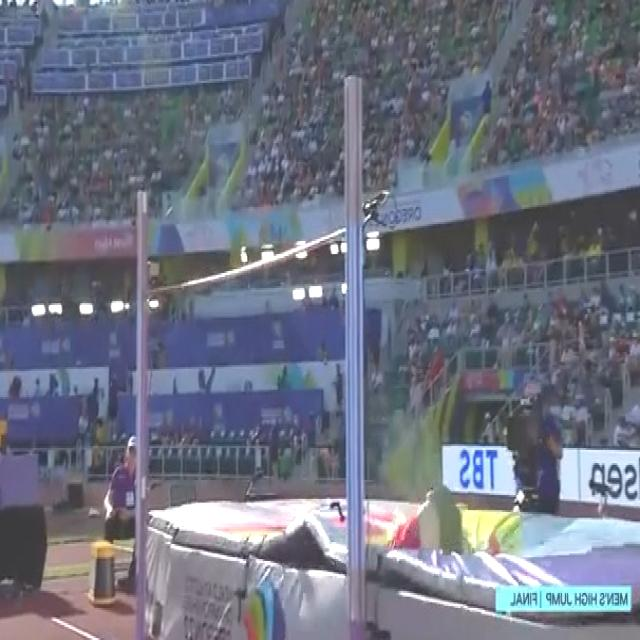land: (385, 467, 502, 558)
